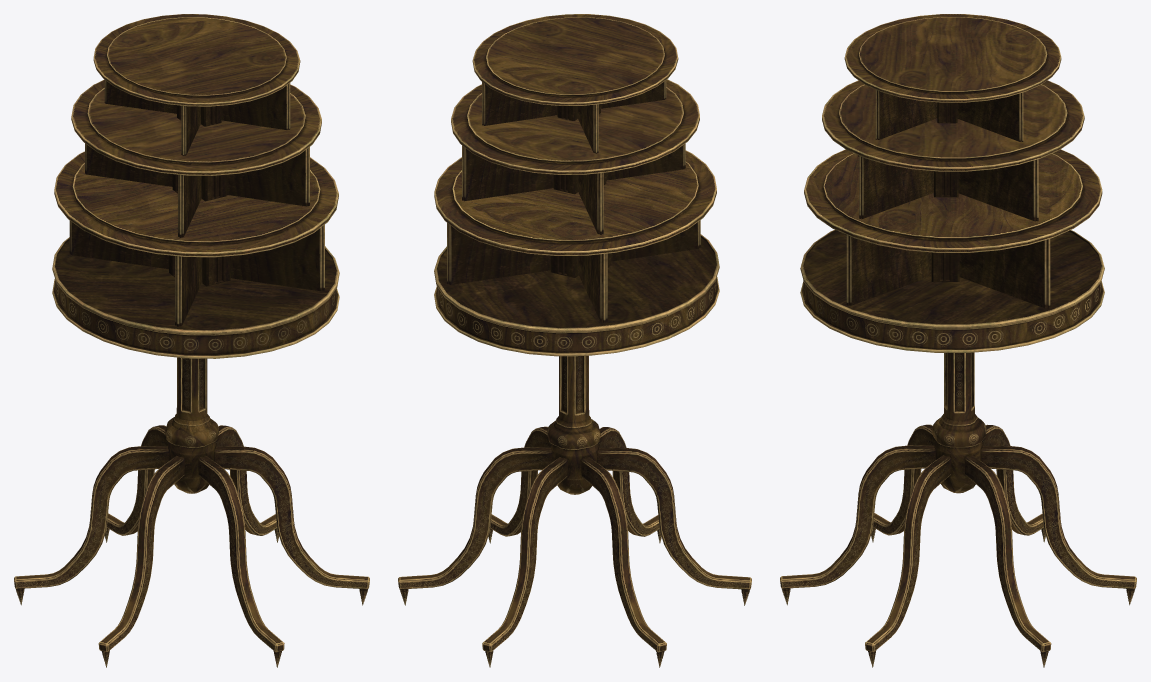
The model's file is SM_FoodStandGround_3S.fbx.
3 views of the same model, side by side, from view 1: azimuth 30°, elevation 25°; view 2: azimuth 150°, elevation 25°; view 3: azimuth 270°, elevation 25° (orthographic).
Parts seen in each view (by area): view 1: SM_FoodStandGround_3S_LOD0; view 2: SM_FoodStandGround_3S_LOD0; view 3: SM_FoodStandGround_3S_LOD0.
Boxes of the visible parts, box(x1,y1,x2,y2) form: SM_FoodStandGround_3S_LOD0: box(14, 14, 369, 667); SM_FoodStandGround_3S_LOD0: box(398, 14, 751, 667); SM_FoodStandGround_3S_LOD0: box(780, 14, 1136, 667).
Size of the model in its own units: 115 by 131 by 223.
1 material, 1 textured.
